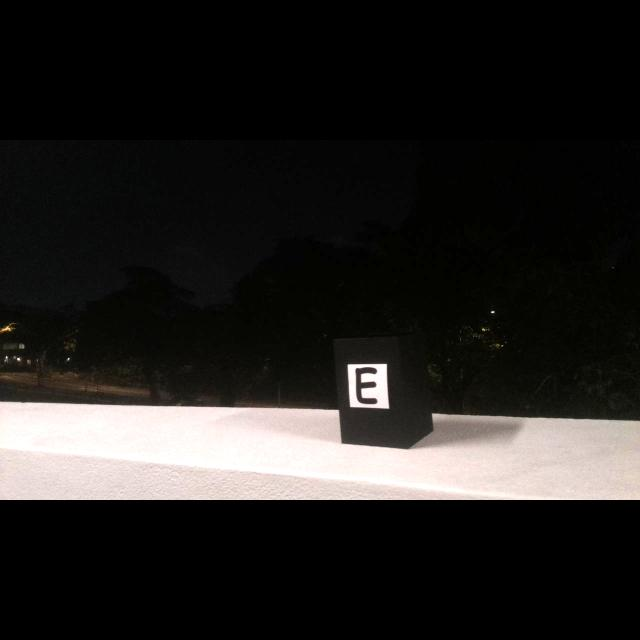E: (356, 367, 377, 404)
